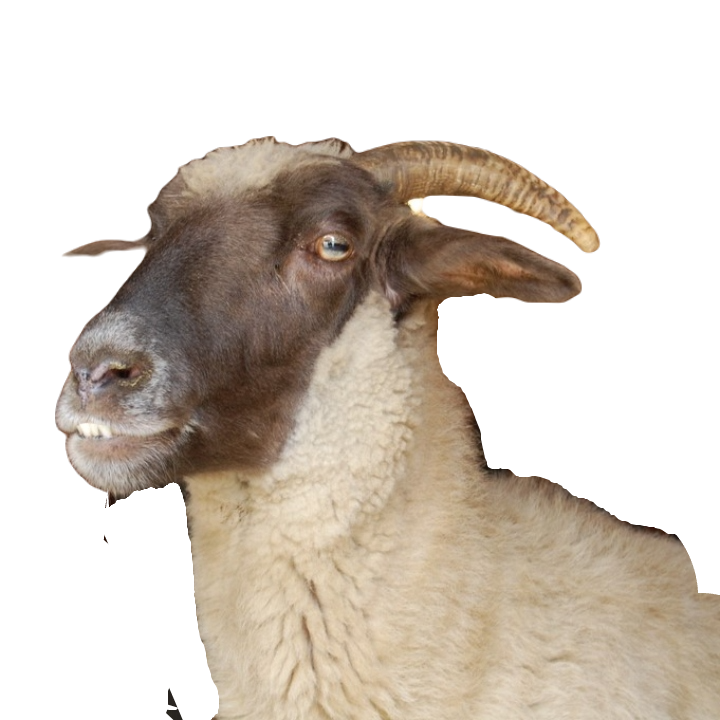Sheep: (49, 125, 719, 719)
